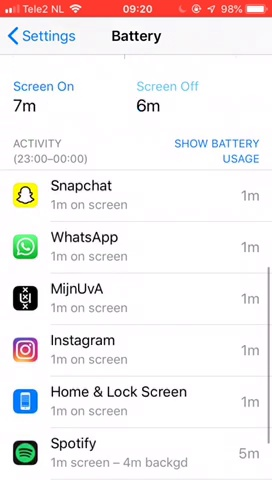activity: (8, 135, 108, 166)
app: (12, 229, 265, 267), (13, 278, 266, 316), (11, 330, 264, 368), (4, 384, 257, 422), (10, 433, 263, 471), (11, 177, 264, 215)
